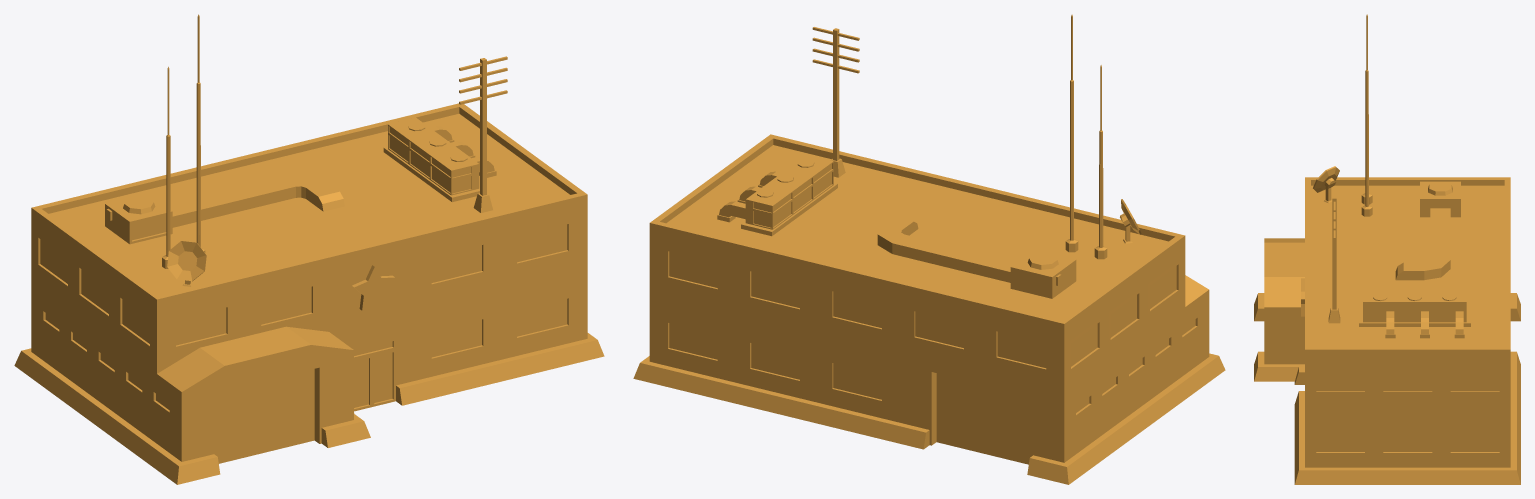
File: military-headquarters.fbx
The picture shows the model from 3 angles, left to right: view 1: azimuth 30°, elevation 25°; view 2: azimuth 150°, elevation 25°; view 3: azimuth 270°, elevation 25°; orthographic projection. The views are drawn at different scales.
Visible parts, largest first — view 1: military-headquarters; view 2: military-headquarters; view 3: military-headquarters.
Boxes of the visible parts, x1,y1,x2,y2 form: military-headquarters: (14,14,604,484); military-headquarters: (633,14,1225,484); military-headquarters: (1254,14,1520,484).
Bounding box in the file's own units: 21 × 17.68 × 13.1.
